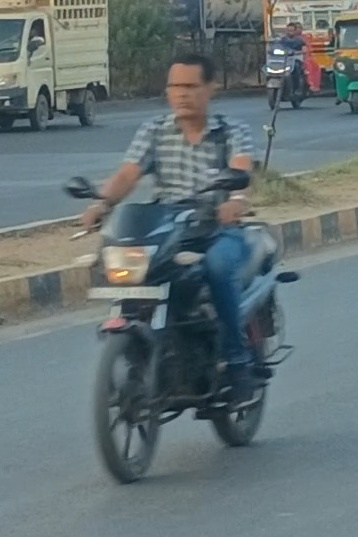BikeWithRider: (56, 41, 315, 490)
NoHelmet: (161, 54, 222, 121)
